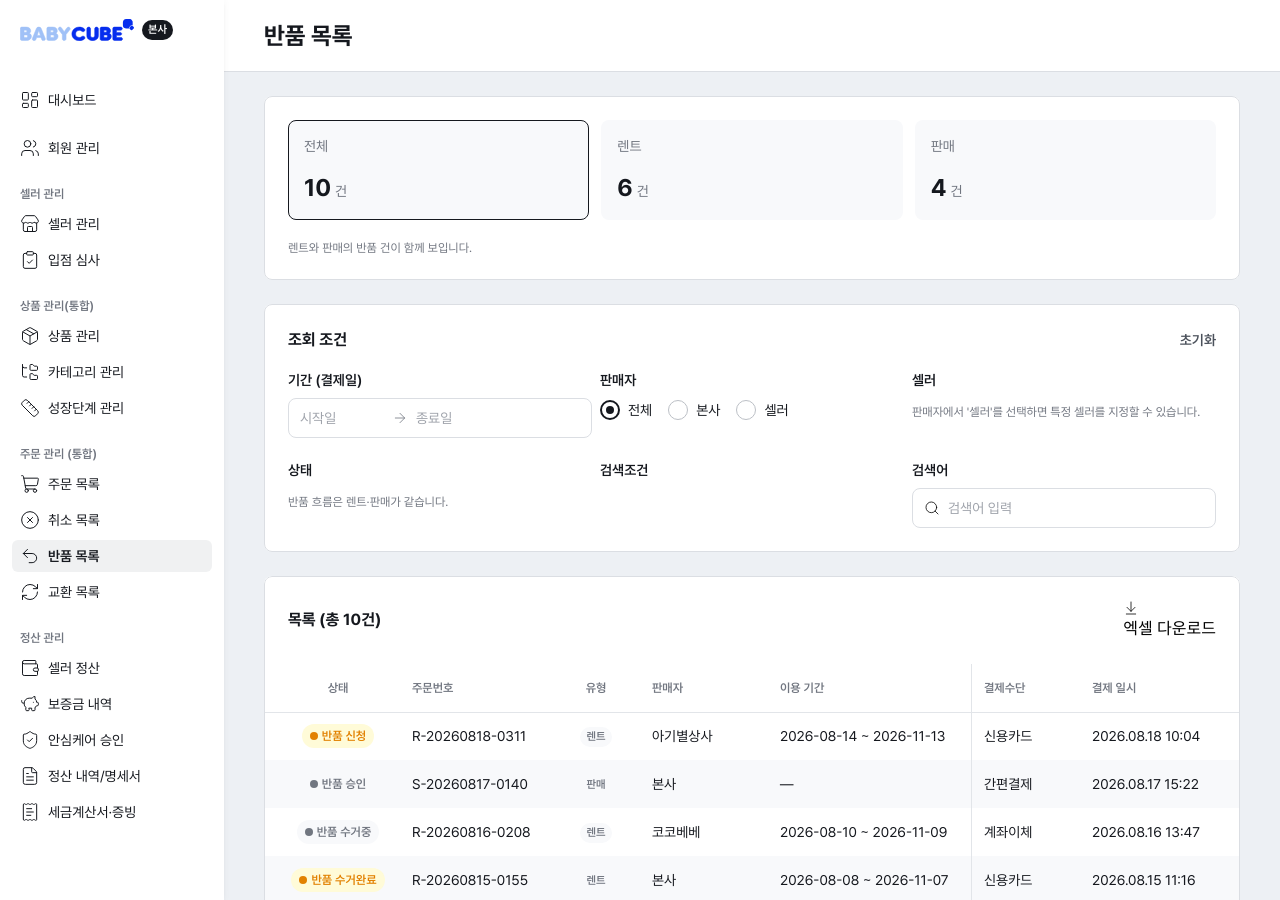
Scenario: OrderReturnListPage (BabyCube S10 반품 목록) › 유형 대시 (원본 StatDash) › 유형을 바꾸면 안내 문구도 바뀐다 (원본 statusTips)
The image size is (1280, 900).
Click the button "렌트 6 건".
click(629, 146)  # box [601, 120, 903, 220]
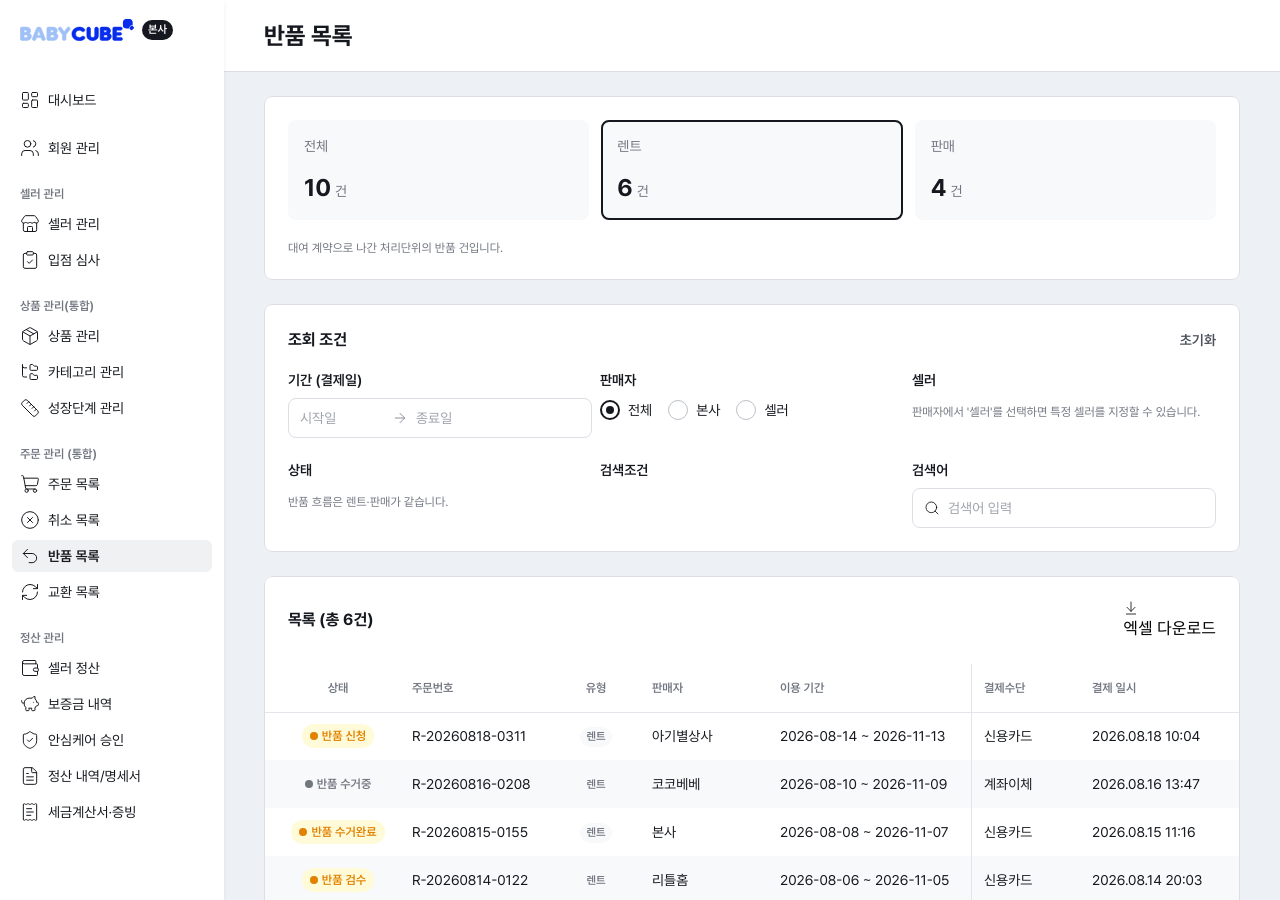
Check: the text "대여 계약으로 나간 처리단위의 반품 건입니다." is shown, box [288, 241, 503, 255]
Click the button "판매 4 건".
click(943, 146)  # box [915, 120, 1216, 220]
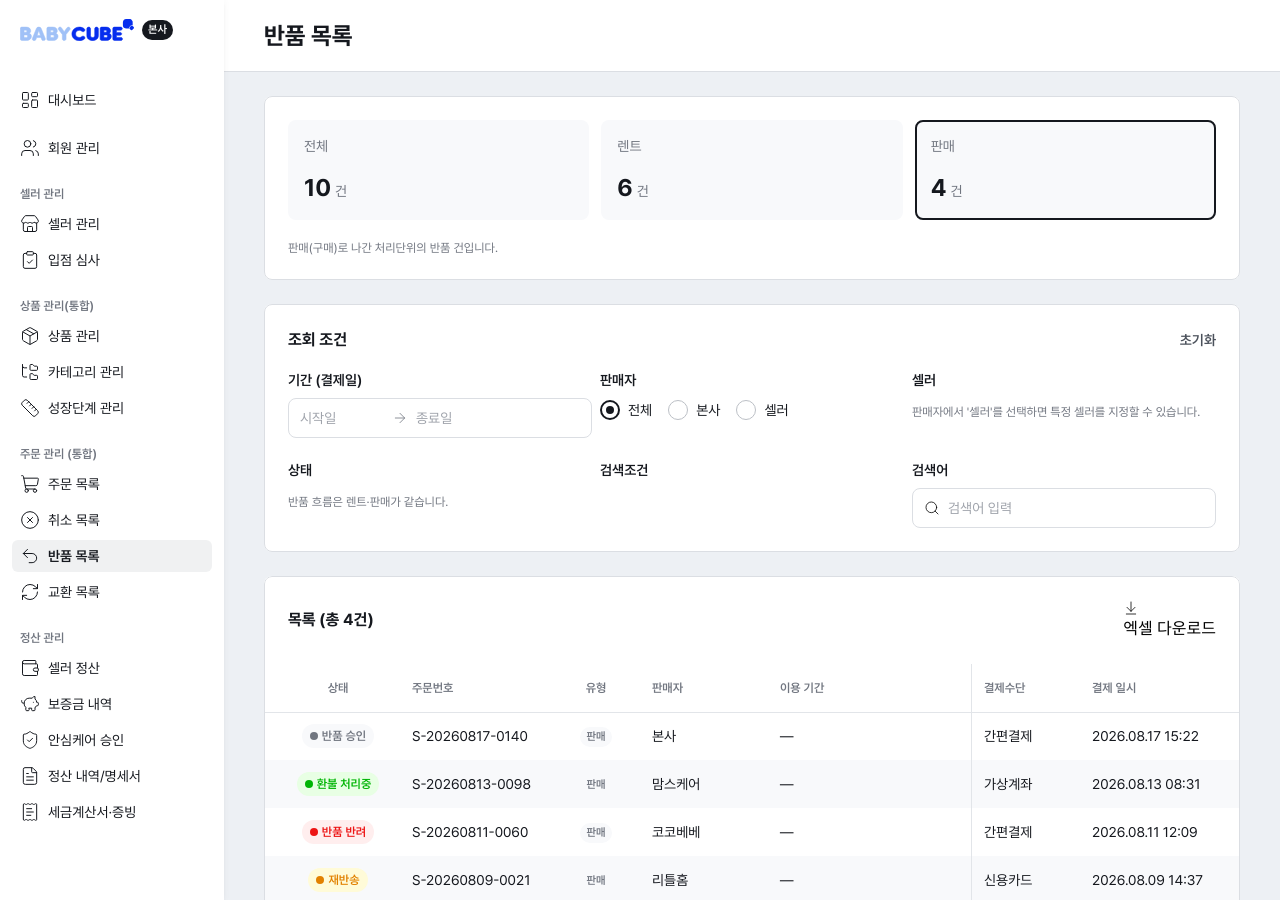
Check: the text "판매(구매)로 나간 처리단위의 반품 건입니다." is shown, box [288, 241, 498, 255]
